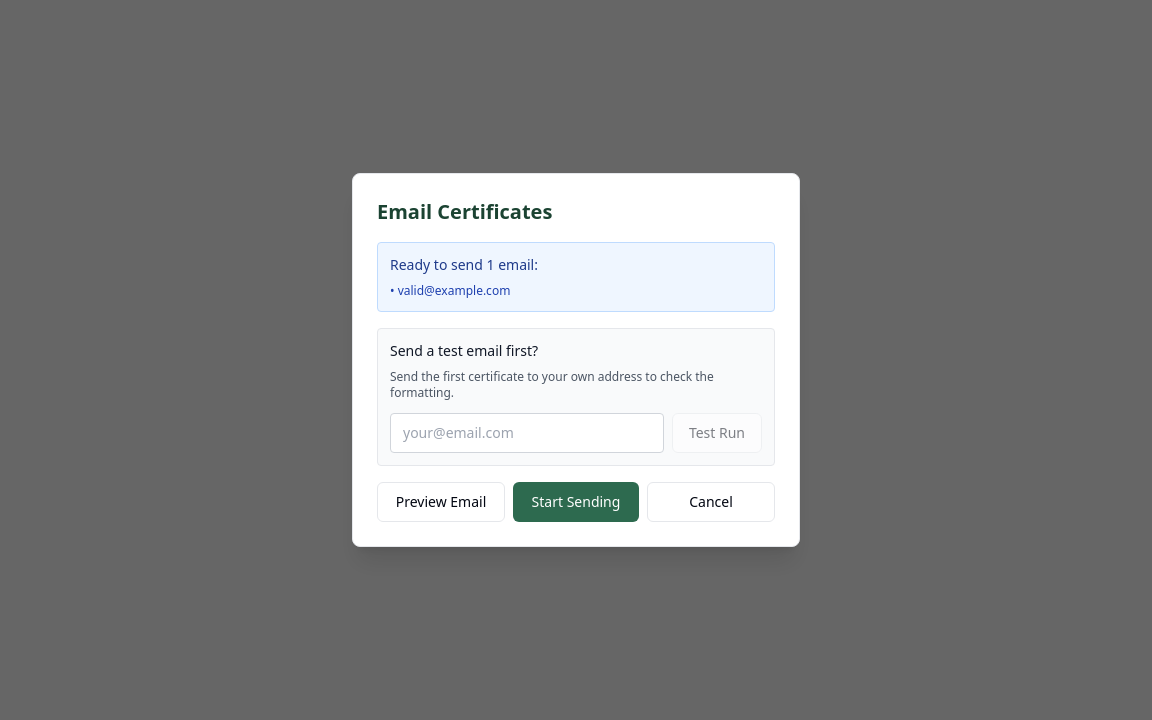
Test case: BulkEmailModal attachment ingestion › previews client-generated blob certificates using their effective attachment delivery
The width and height of the screenshot is (1152, 720).
Click the button "Preview Email". click: click(441, 502)
box: [377,482,505,522]
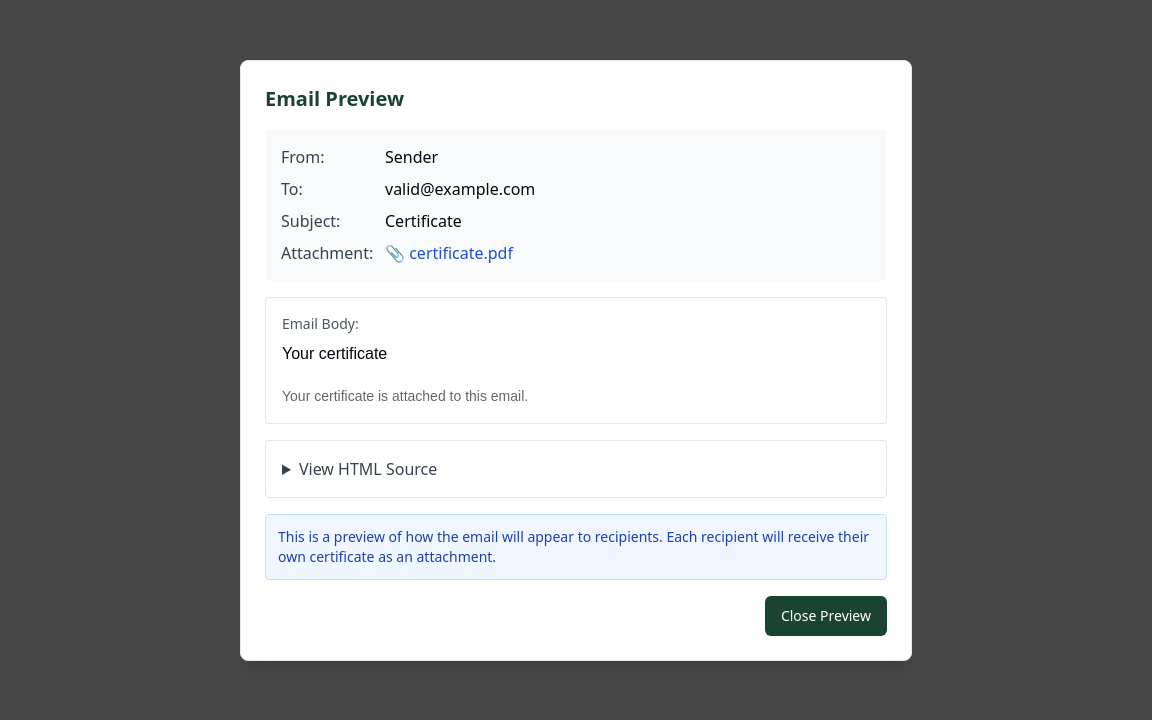
Result: the text "Your certificate is attached to this email." is shown at [282,388,528,404]
